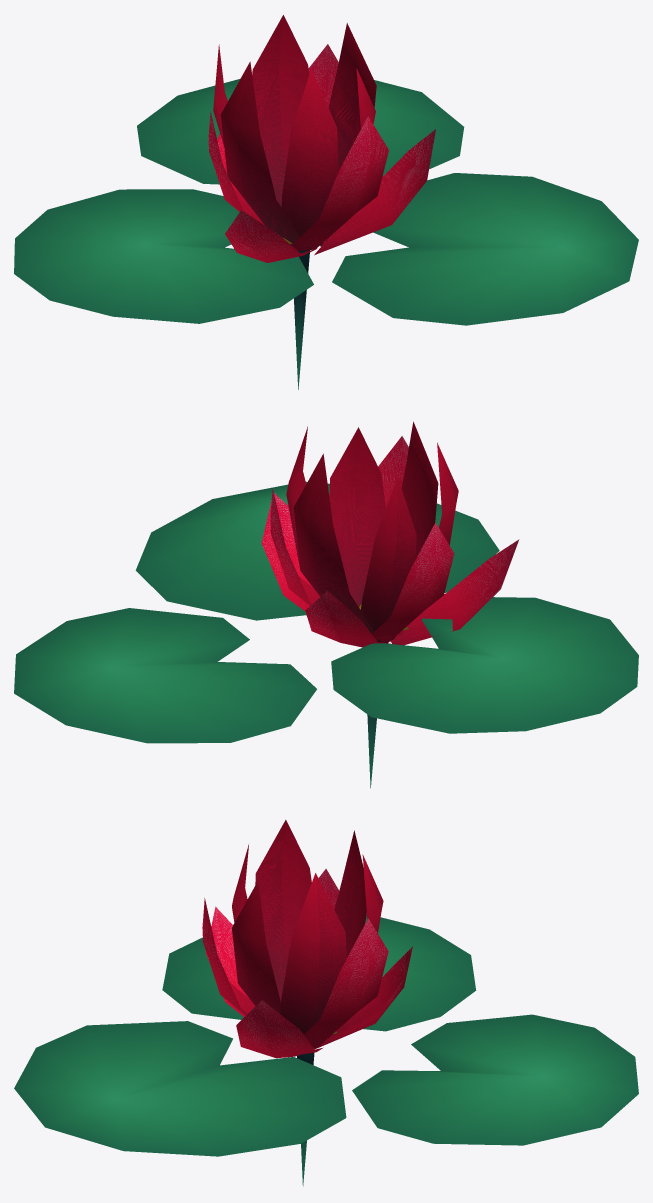
The model's file is Water_Plant_3D.fbx.
3 views of the same model, one above another, from view 1: azimuth 30°, elevation 25°; view 2: azimuth 150°, elevation 25°; view 3: azimuth 270°, elevation 25° (orthographic). The views are drawn at different scales.
Parts seen in each view (by area): view 1: Water_Plant_3D; view 2: Water_Plant_3D; view 3: Water_Plant_3D.
Part boxes in pixels (<box>): Water_Plant_3D: <box>14,15,638,389</box>; Water_Plant_3D: <box>14,421,638,788</box>; Water_Plant_3D: <box>14,820,638,1186</box>.
Bounding box in the file's own units: 63.64 × 41.47 × 68.62.
